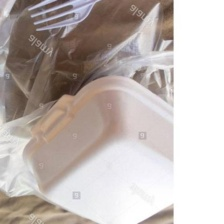foam_box: (17, 72, 172, 224)
